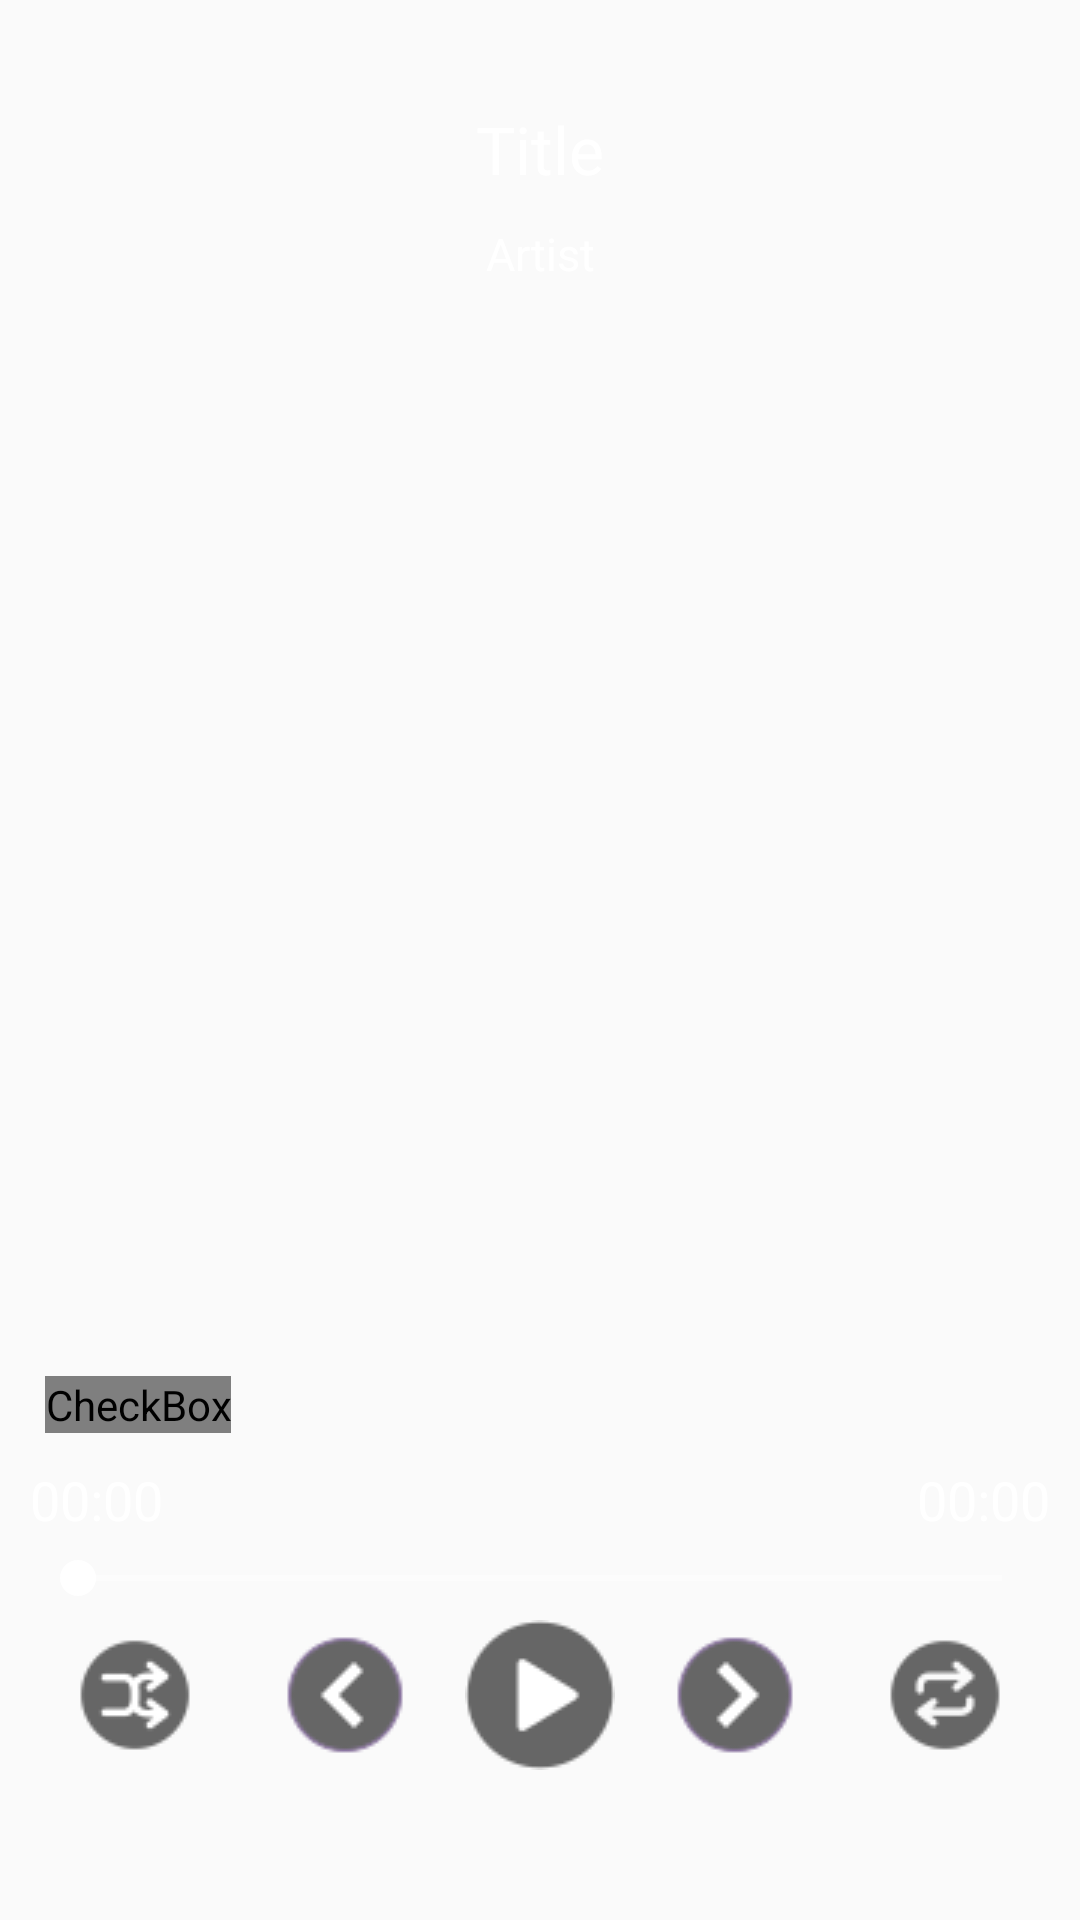

Where to tap for icons on this 1080w x 1920h app screen, as point (x, y):
custom cb random: point (135, 1695)
custom cb repeat: point (945, 1695)
next: point (735, 1695)
play: point (540, 1695)
prev: point (345, 1695)
